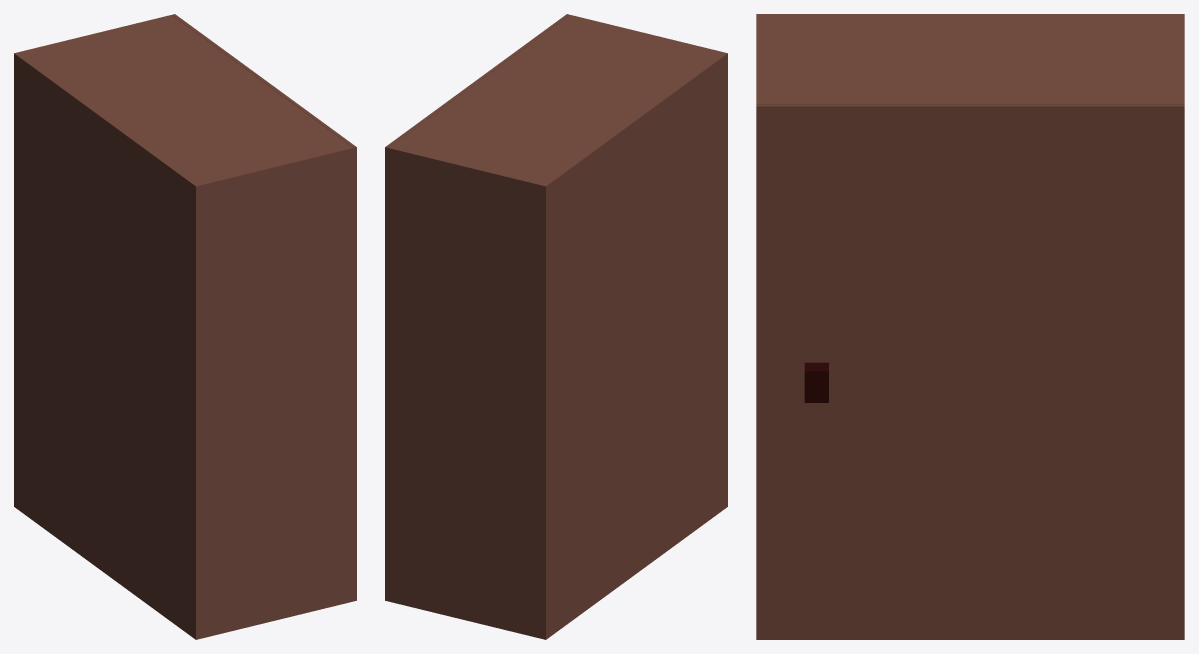
The model's file is WardrobeSingleDoor.fbx.
3 renders of one model, left to right at view 1: azimuth 30°, elevation 25°; view 2: azimuth 150°, elevation 25°; view 3: azimuth 270°, elevation 25°, orthographic. The views are drawn at different scales.
Parts seen in each view (by area): view 1: WardrobeSingleDoor, WardrobeSingleDoor_Door; view 2: WardrobeSingleDoor, WardrobeSingleDoor_Door; view 3: WardrobeSingleDoor_Door, WardrobeSingleDoor.
Boxes of the visible parts, box(x1,y1,x2,y2) form: WardrobeSingleDoor: box(14, 15, 353, 639); WardrobeSingleDoor_Door: box(172, 14, 356, 601); WardrobeSingleDoor: box(388, 15, 727, 639); WardrobeSingleDoor_Door: box(385, 14, 569, 601); WardrobeSingleDoor_Door: box(756, 104, 1184, 639); WardrobeSingleDoor: box(756, 14, 1184, 104).
Bounding box in the file's own units: 446 × 1100 × 800.
